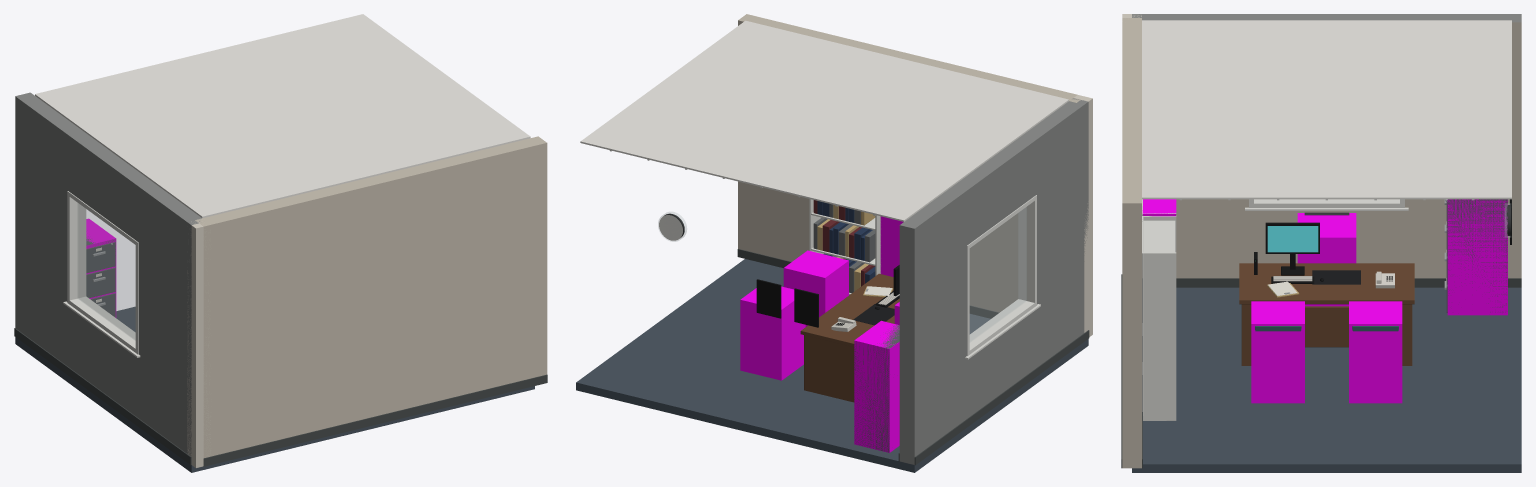
The model's file is ENV_MedicalDirectorOffice.glb.
3 renders of one model, left to right at view 1: azimuth 30°, elevation 25°; view 2: azimuth 150°, elevation 25°; view 3: azimuth 270°, elevation 25°, orthographic. The views are drawn at different scales.
Parts seen in each view (by area): view 1: ENV_MedicalDirectorOffice_Architecture, ENV_MedicalDirectorOffice_Ceiling, ENV_MedicalDirectorOffice_Posts, PROP_Cabinet_Filing_4Drawer_Mesh.007, PROP_Cabinet_Filing_4Drawer_COL-colonly.007; view 2: ENV_MedicalDirectorOffice_Architecture, ENV_MedicalDirectorOffice_Ceiling, PROP_Desk_Executive_Mesh, PROP_Cabinet_Filing_4Drawer_COL-colonly.007, PROP_Chair_Visitor_COL-colonly.002, PROP_Bookcase_Binders_Mesh, PROP_Chair_Visitor_COL-colonly.001, PROP_Cabinet_Filing_4Drawer_Mesh.007, ENV_MedicalDirectorOffice_Posts, PROP_Bookcase_Binders_COL-colonly.001, PROP_Frame_Certificate_Mesh.001, PROP_Frame_Certificate_Mesh (+1 smaller); view 3: ENV_MedicalDirectorOffice_Architecture, ENV_MedicalDirectorOffice_Ceiling, PROP_Desk_Executive_Mesh, PROP_Bookcase_Binders_Mesh, PROP_Cabinet_Filing_4Drawer_COL-colonly.007, PROP_Chair_Visitor_COL-colonly.001, PROP_Chair_Visitor_COL-colonly.002, PROP_Cabinet_Filing_4Drawer_Mesh.007, PROP_Chair_Office_COL-colonly.003, PROP_Terminal_EHR_Screen.003, PROP_Terminal_EHR_Mesh.003, PROP_Bookcase_Binders_COL-colonly.001.
Boxes of the visible parts, x1,y1,x2,y2 form: ENV_MedicalDirectorOffice_Architecture: (14, 92, 547, 472); ENV_MedicalDirectorOffice_Ceiling: (35, 14, 530, 218); ENV_MedicalDirectorOffice_Posts: (187, 218, 210, 467); PROP_Cabinet_Filing_4Drawer_Mesh.007: (86, 239, 115, 317); PROP_Cabinet_Filing_4Drawer_COL-colonly.007: (86, 218, 116, 317); ENV_MedicalDirectorOffice_Architecture: (576, 14, 1089, 472); ENV_MedicalDirectorOffice_Ceiling: (580, 20, 1068, 221); PROP_Desk_Executive_Mesh: (800, 273, 899, 402); PROP_Cabinet_Filing_4Drawer_COL-colonly.007: (854, 320, 899, 452); PROP_Chair_Visitor_COL-colonly.002: (740, 286, 805, 380); PROP_Bookcase_Binders_Mesh: (809, 199, 880, 294); PROP_Chair_Visitor_COL-colonly.001: (783, 250, 848, 326); PROP_Cabinet_Filing_4Drawer_Mesh.007: (854, 325, 899, 452); ENV_MedicalDirectorOffice_Posts: (1074, 95, 1092, 336); PROP_Bookcase_Binders_COL-colonly.001: (880, 216, 903, 276); PROP_Frame_Certificate_Mesh.001: (756, 279, 781, 318); PROP_Frame_Certificate_Mesh: (794, 288, 818, 327); ENV_MedicalDirectorOffice_Architecture: (1121, 14, 1521, 472); ENV_MedicalDirectorOffice_Ceiling: (1142, 20, 1511, 200); PROP_Desk_Executive_Mesh: (1239, 263, 1414, 365); PROP_Bookcase_Binders_Mesh: (1142, 216, 1176, 420); PROP_Cabinet_Filing_4Drawer_COL-colonly.007: (1447, 199, 1507, 315); PROP_Chair_Visitor_COL-colonly.001: (1251, 301, 1304, 403); PROP_Chair_Visitor_COL-colonly.002: (1349, 301, 1402, 403); PROP_Cabinet_Filing_4Drawer_Mesh.007: (1444, 199, 1507, 312); PROP_Chair_Office_COL-colonly.003: (1297, 213, 1356, 306); PROP_Terminal_EHR_Screen.003: (1267, 226, 1318, 252); PROP_Terminal_EHR_Mesh.003: (1254, 222, 1323, 283); PROP_Bookcase_Binders_COL-colonly.001: (1142, 199, 1176, 216).
Size of what is drawn, in the model's own units: 4.64 by 3.12 by 4.11.
